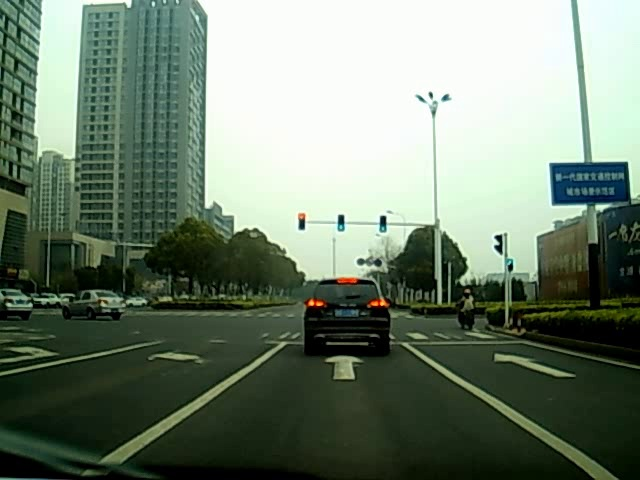Traffic_Light_go: (379, 215, 387, 233), (338, 216, 346, 233)
Traffic_Light_stop: (298, 213, 306, 231)
